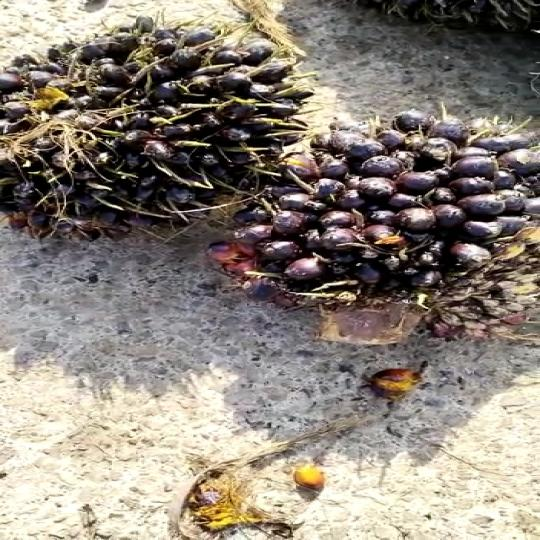mentah: (0, 12, 316, 234), (226, 109, 540, 325)
